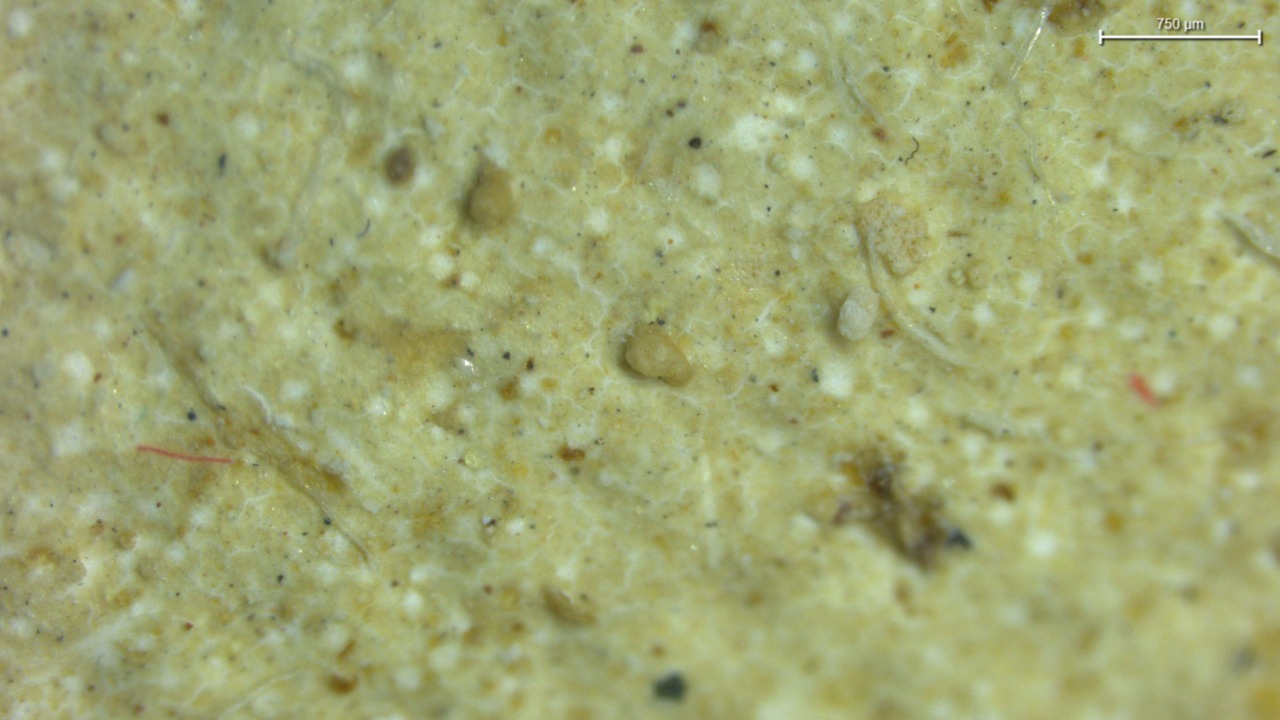microplastic_fragment: (630, 326, 699, 389), (839, 288, 877, 343)
